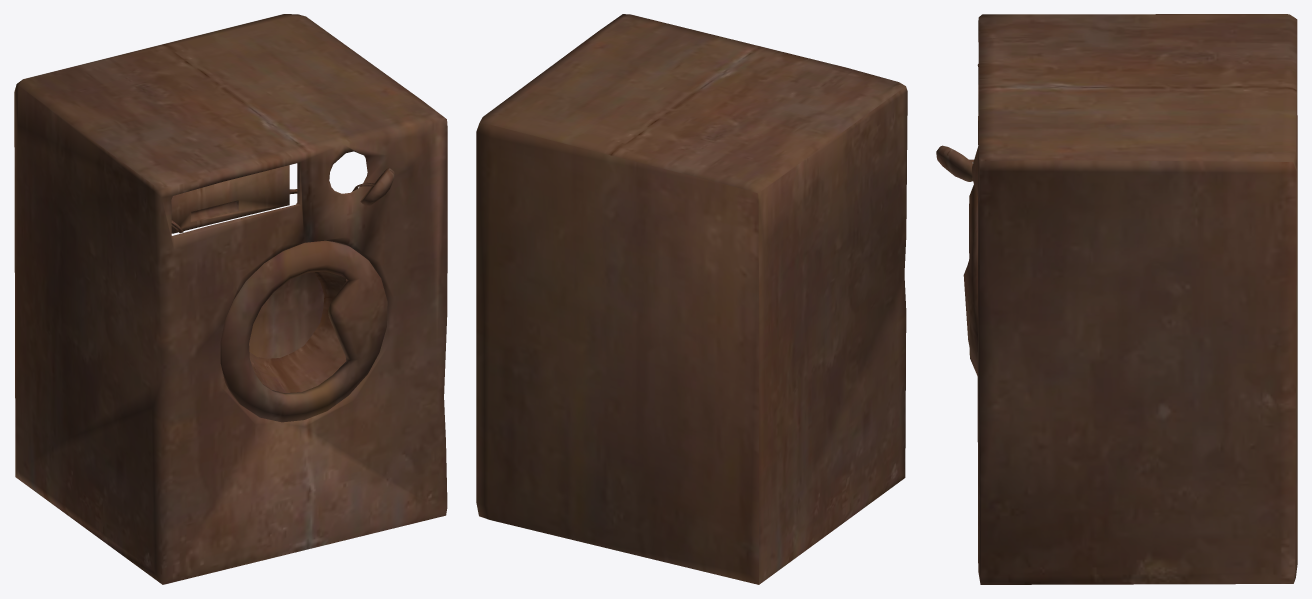
File: washingmachine_junk.glb
3 views of the same model, side by side, from view 1: azimuth 30°, elevation 25°; view 2: azimuth 150°, elevation 25°; view 3: azimuth 270°, elevation 25° (orthographic). The views are drawn at different scales.
Parts seen in each view (by area): view 1: washingMachine_junk; view 2: washingMachine_junk; view 3: washingMachine_junk.
Boxes of the visible parts, x1,y1,x2,y2 form: washingMachine_junk: [14, 14, 447, 584]; washingMachine_junk: [476, 14, 907, 584]; washingMachine_junk: [936, 14, 1297, 584].
Bounding box in the file's own units: 0.8218 × 1.09 × 0.8352.
1 material, 1 textured.
